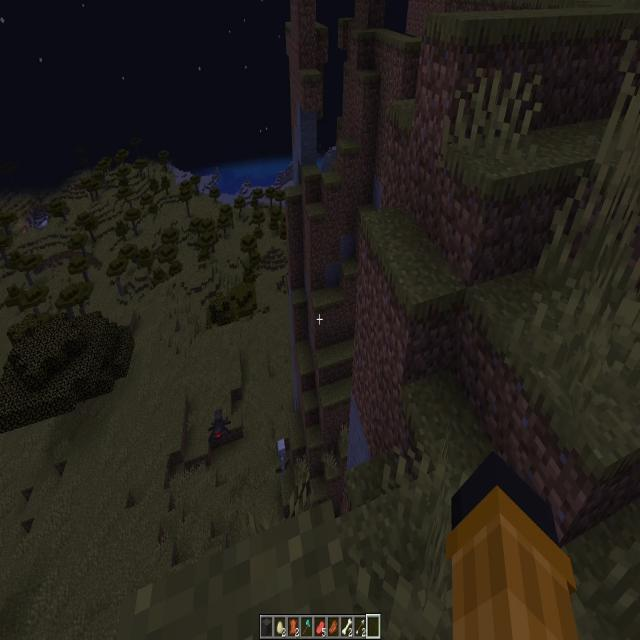Skeleton: (278, 442, 288, 475)
Spider: (211, 410, 228, 438)
